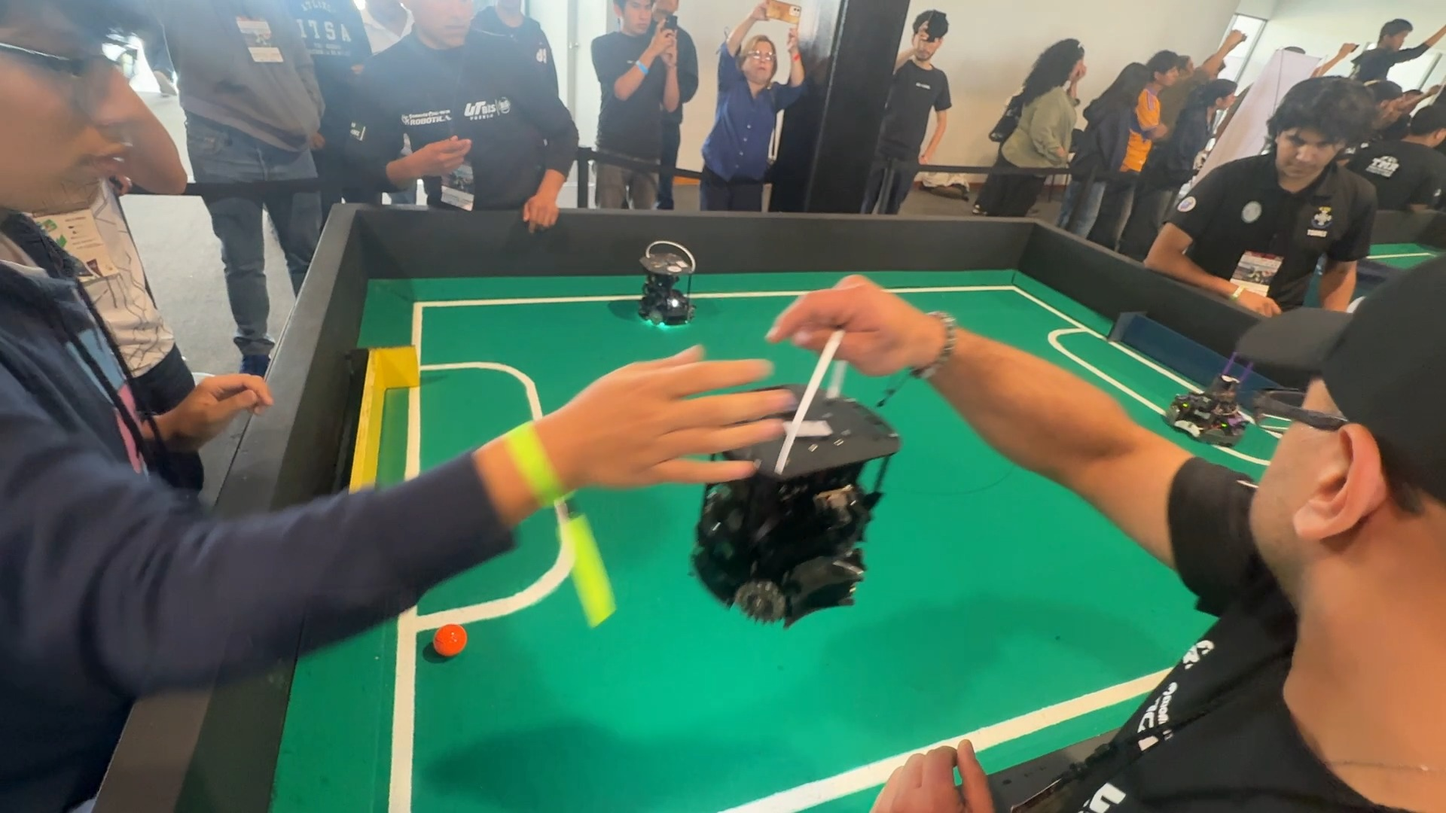Robot: (685, 352, 901, 613), (618, 240, 707, 336), (1175, 379, 1256, 450)
pelota: (421, 619, 473, 664)
